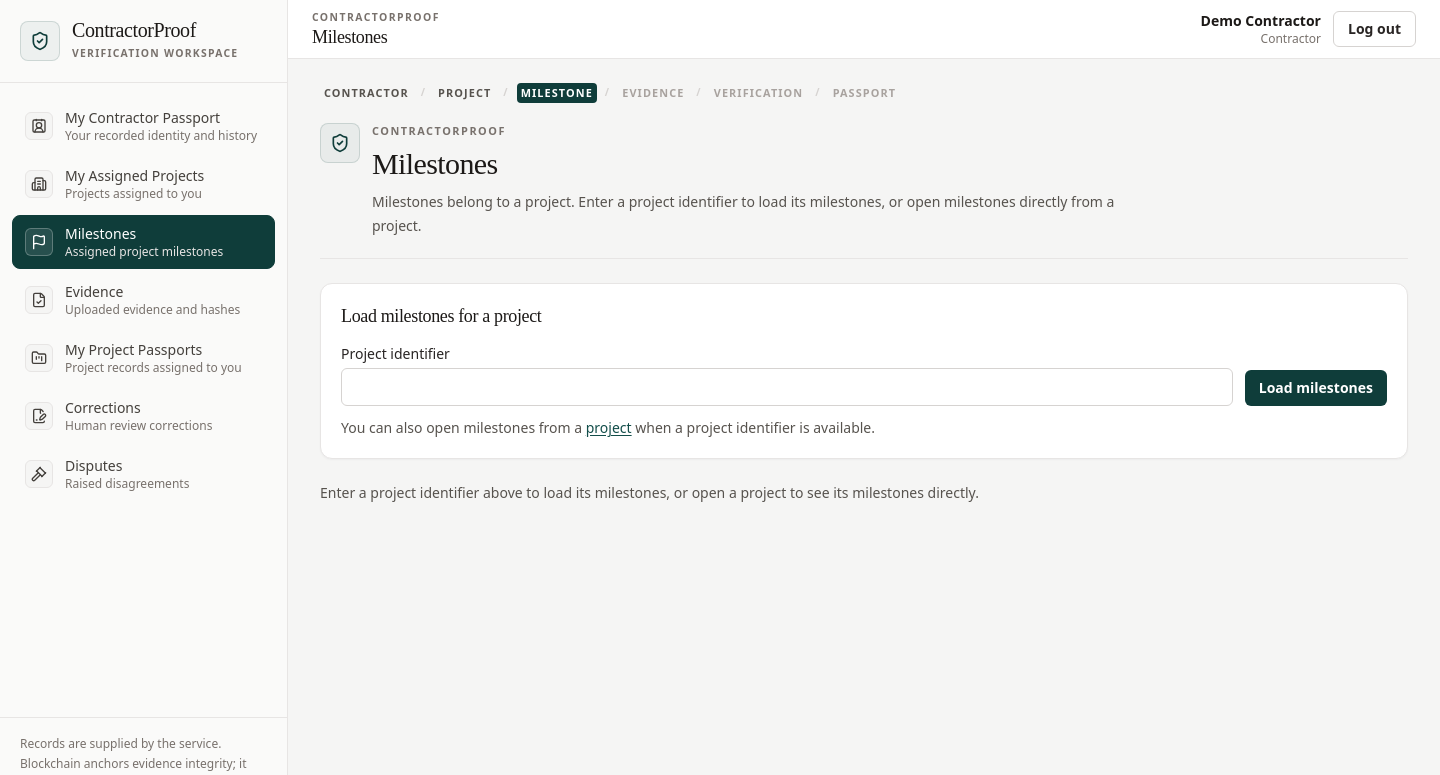
milestone history is not confused with an empty history › does not offer the review screen to the assigned contractor
Type "66666666-6666-4666-8666-666666666666" into the field labelled "Project identifier". click: (787, 388)
box: left=341, top=368, right=1233, bottom=406
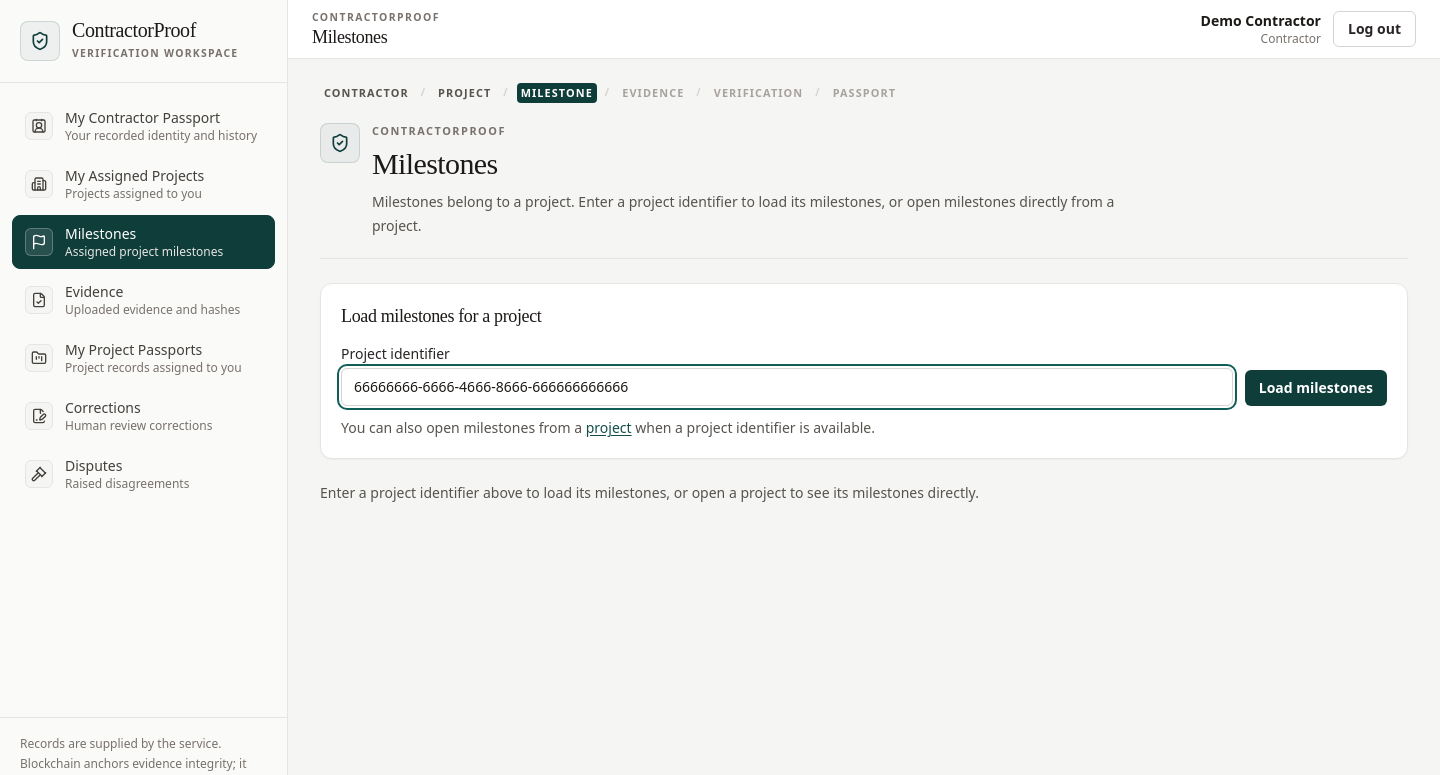
Click the button "Load milestones". click: (1316, 388)
box: left=1245, top=370, right=1387, bottom=406
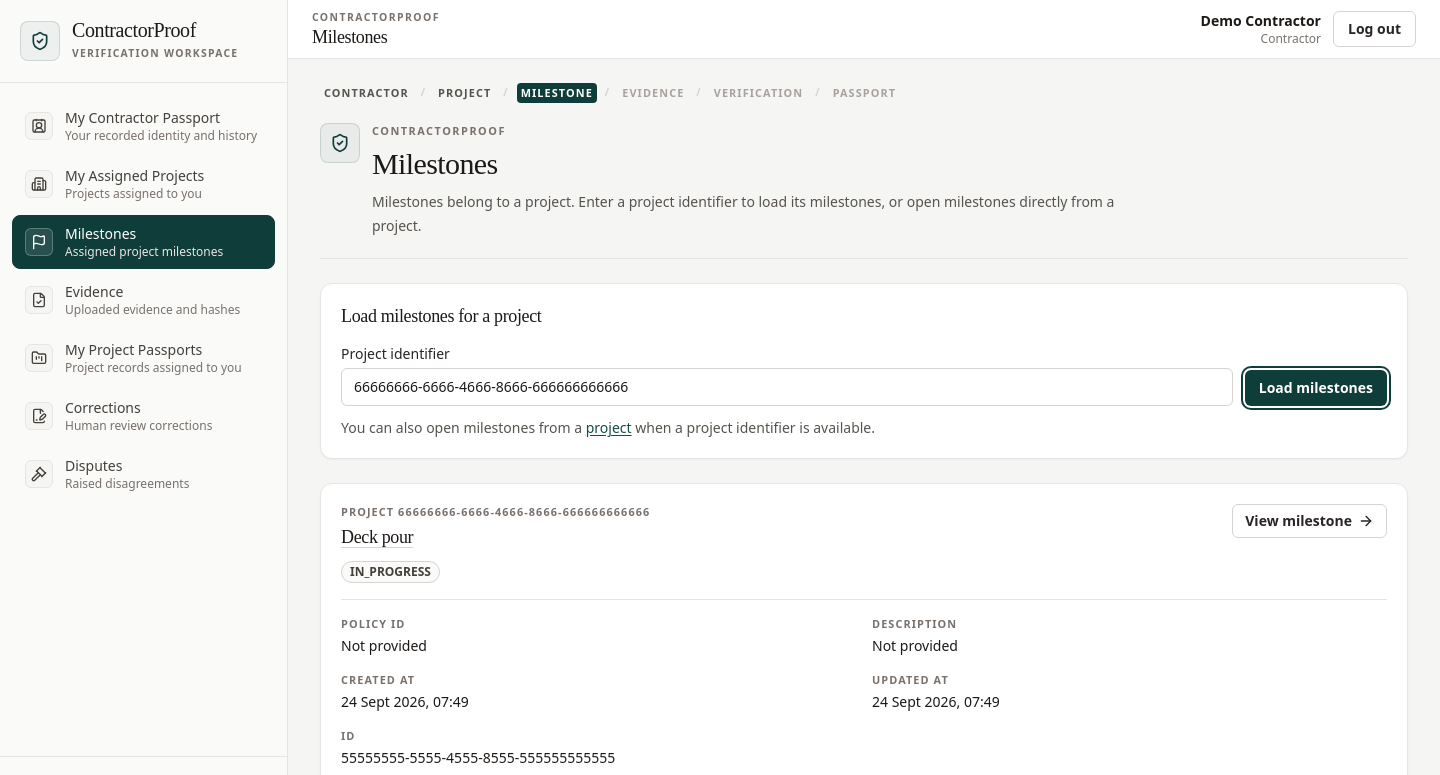
Expected: the heading "Deck pour" is shown, left=341, top=527, right=413, bottom=547
